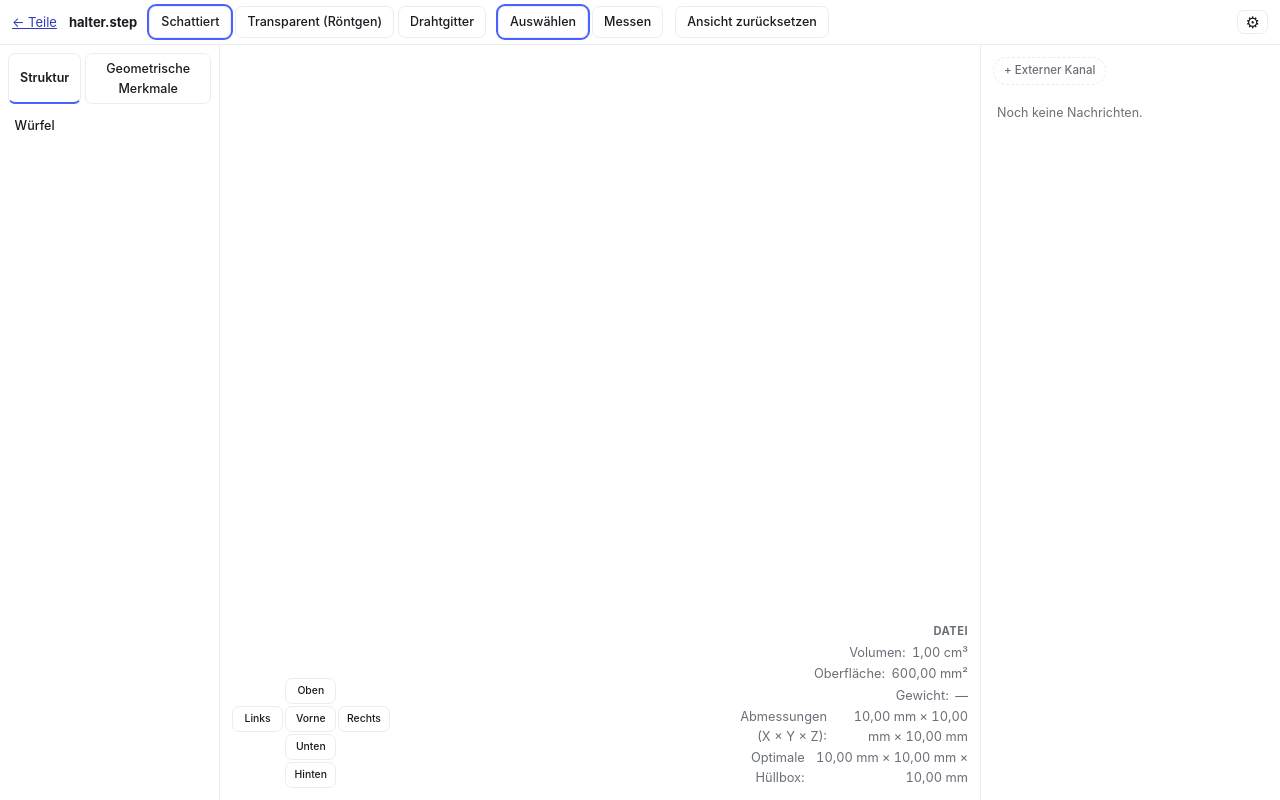
Test: CadViewerPage — display options (M2.9 gear) › closes the popover on Escape
This screenshot has width=1280, height=800.
Expected: the button "Würfel" is shown, [8,112,211,140]
Step 1. Click the button named "Anzeigeoptionen" → (1253, 22), box [1237,10,1268,34]
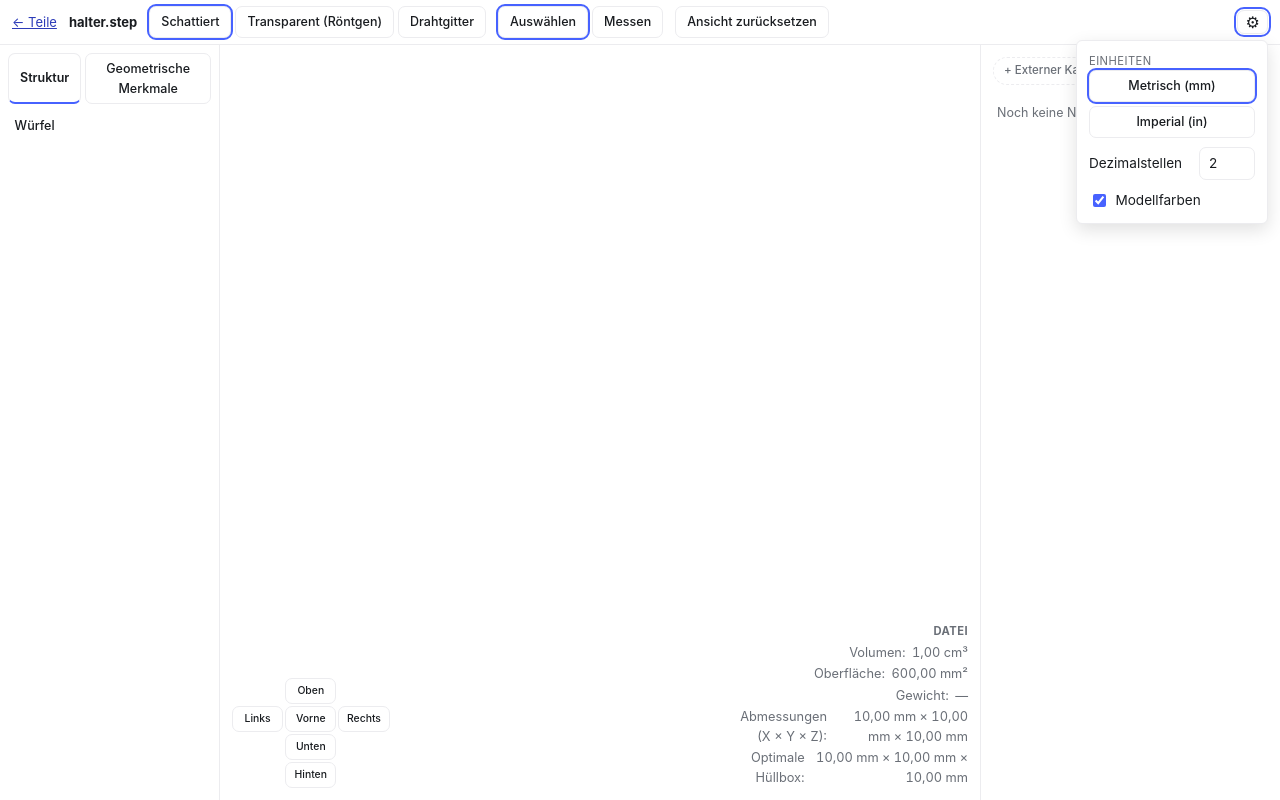
Expected: the button "Imperial (in)" is shown, [1089,106,1255,138]
Step 2. Press Escape
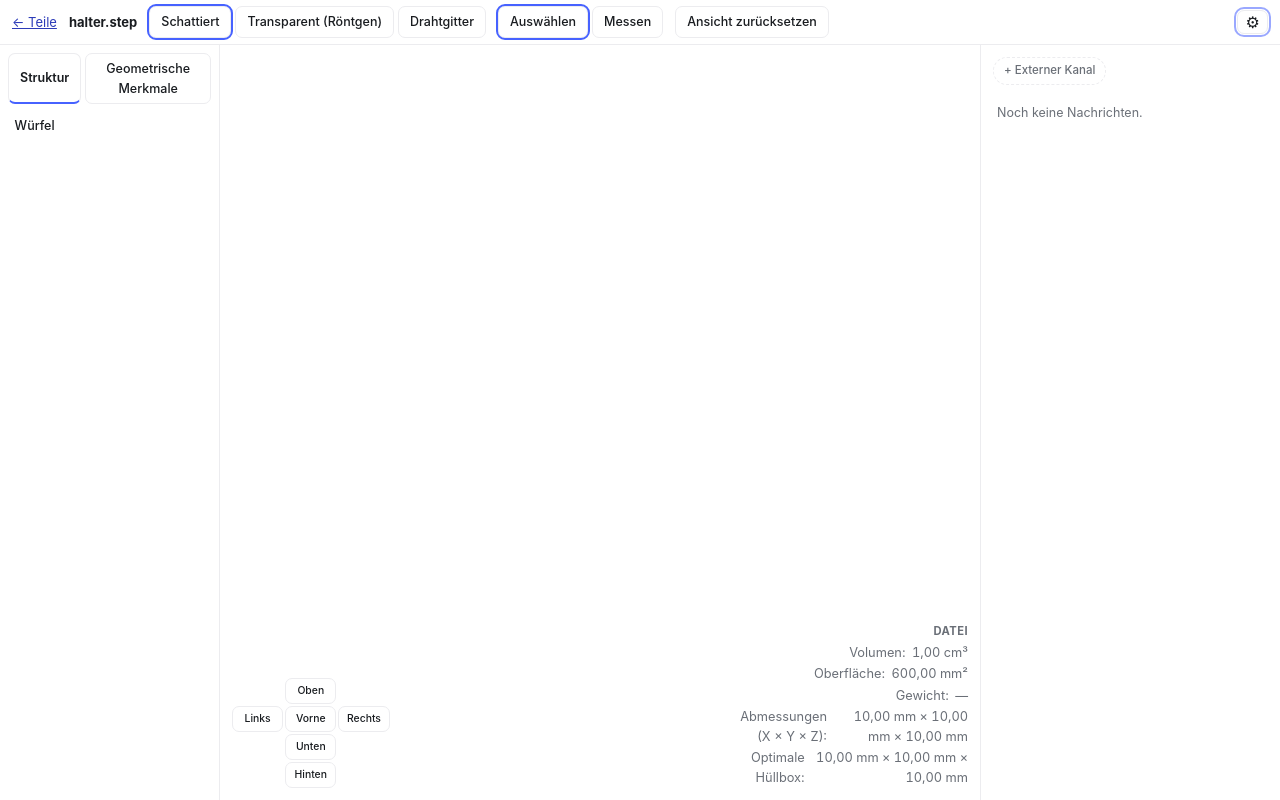
Expected: the button "Imperial (in)" is gone
